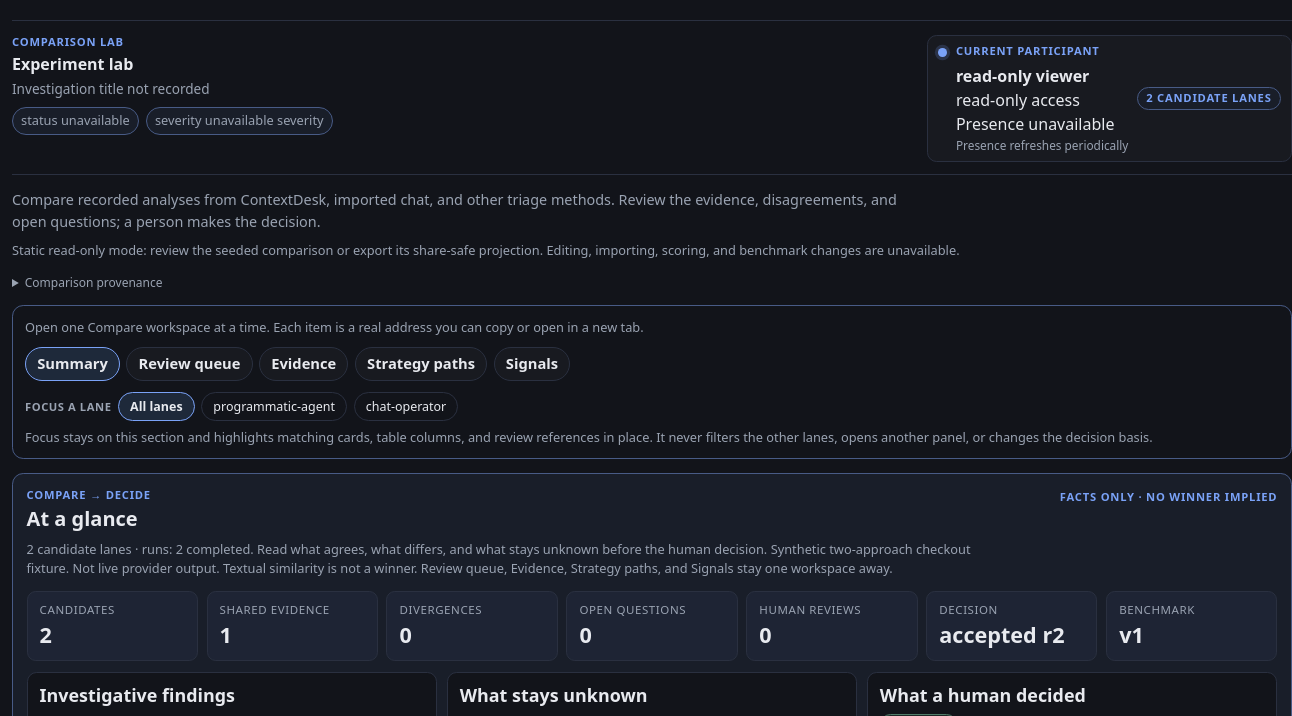
Test case: experiment lab › keeps raw benchmark and decision identities out of primary summaries
Click the link "Strategy paths" at point(421, 364), box [355, 347, 487, 381]
(page scrolled)
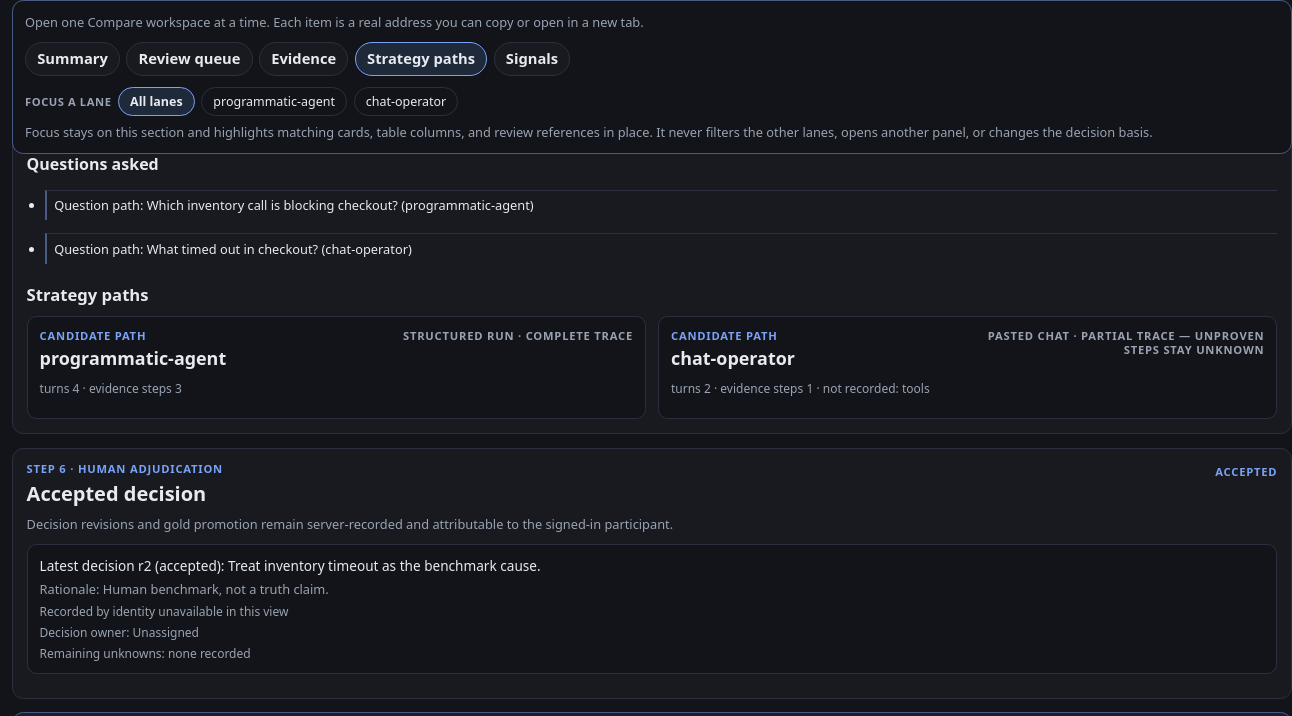
Result: the text with class "experiment-lab__strategy-benchmark-summary" shows "accepted decision record unavailable" at [124, 116, 501, 138]
